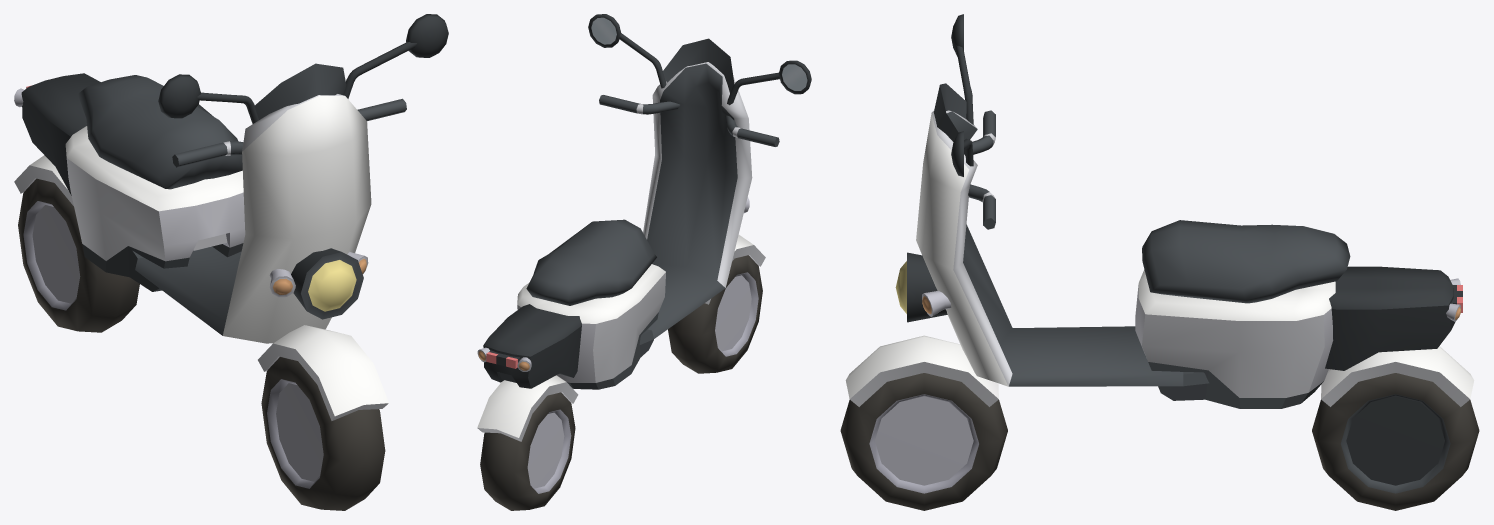
File: Environment_Bike.FBX
3 renders of one model, left to right at view 1: azimuth 30°, elevation 25°; view 2: azimuth 150°, elevation 25°; view 3: azimuth 270°, elevation 25°, orthographic. The views are drawn at different scales.
Visible parts, largest first — view 1: Plane036; view 2: Plane036; view 3: Plane036.
Part boxes in pixels (x1=…): Plane036: x1=14, y1=14, x2=448, y2=510; Plane036: x1=477, y1=14, x2=811, y2=510; Plane036: x1=840, y1=14, x2=1479, y2=510.
Size of the model in its own units: 30.08 by 59.48 by 44.37.
Materials: 1 (1 with a texture image).
